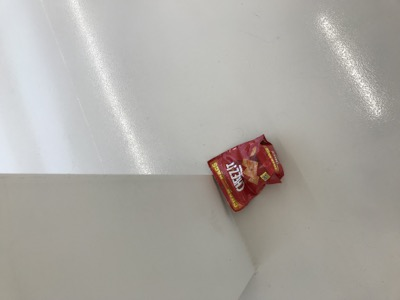cheez-it: (207, 133, 288, 213)
